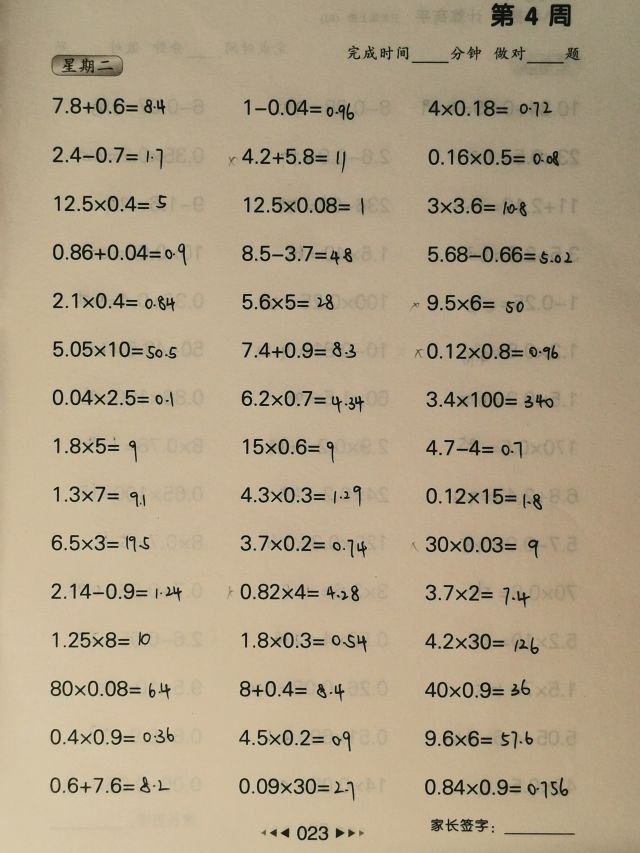equation: (416, 775, 574, 805), (49, 240, 191, 270), (45, 86, 171, 118), (239, 189, 368, 220), (423, 241, 576, 267), (411, 338, 561, 364), (236, 530, 370, 559), (407, 531, 542, 559), (237, 386, 367, 414), (234, 772, 359, 801), (421, 482, 546, 511), (423, 144, 562, 170), (237, 482, 366, 510), (237, 627, 370, 654), (421, 386, 557, 412), (47, 578, 185, 603), (46, 723, 178, 749), (236, 145, 351, 174), (235, 725, 354, 753), (423, 95, 556, 120), (420, 628, 543, 655), (48, 142, 166, 170), (236, 579, 363, 605), (48, 336, 179, 361), (48, 288, 178, 313), (48, 384, 177, 409), (46, 676, 174, 701), (237, 240, 355, 267), (240, 95, 358, 122), (46, 773, 173, 798), (421, 580, 533, 608), (409, 290, 527, 316), (420, 676, 533, 703), (239, 338, 361, 363), (420, 725, 537, 751), (238, 433, 339, 463), (51, 191, 171, 216), (235, 677, 348, 703), (423, 192, 530, 219), (49, 431, 142, 461), (421, 435, 526, 461), (48, 531, 154, 556), (49, 482, 150, 508), (50, 627, 155, 651), (239, 290, 338, 315)
